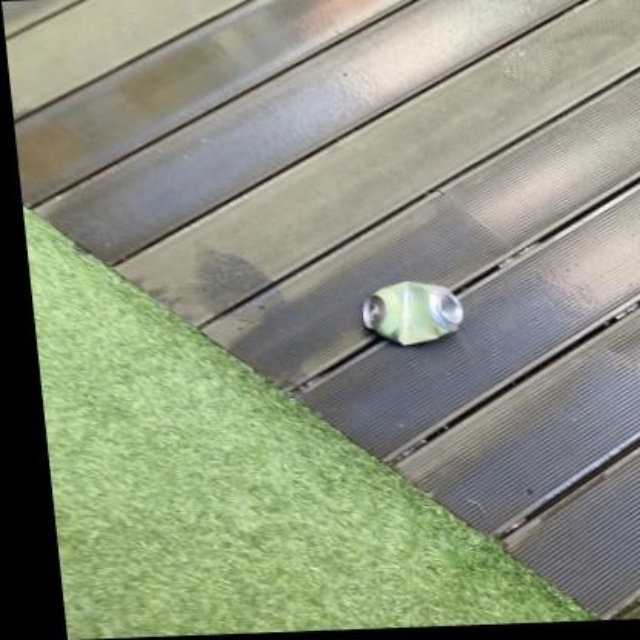trash: (362, 282, 462, 343)
